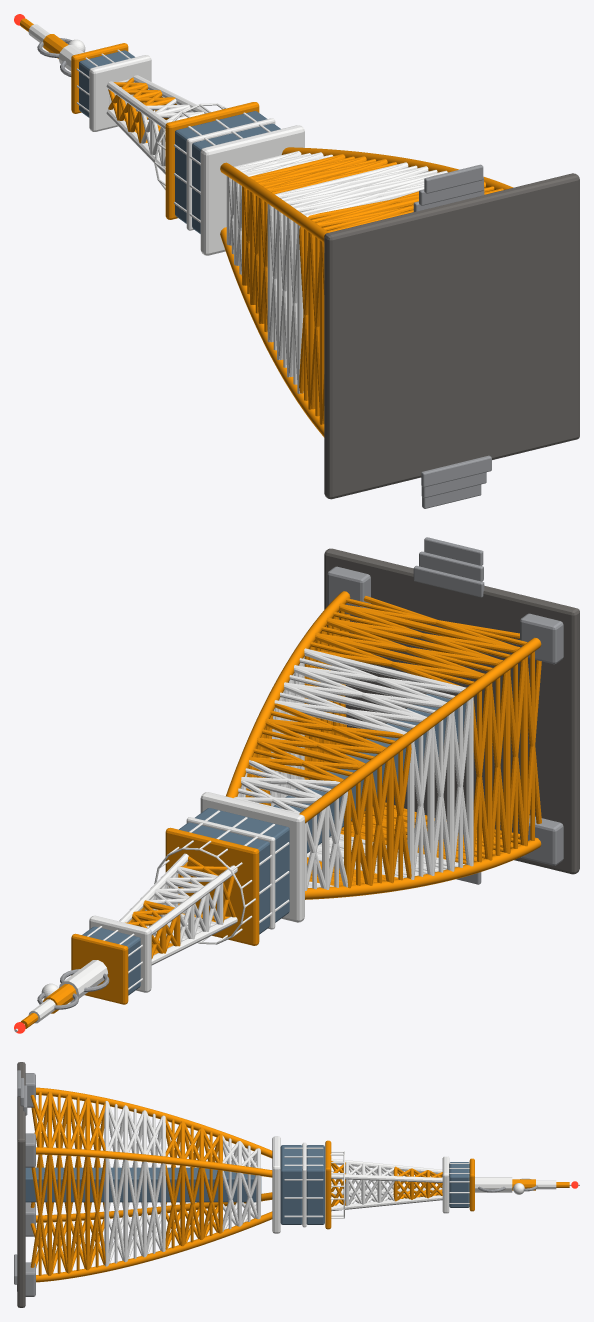
Rendered from tokyo_tower.glb.
The picture shows the model from 3 angles, top to bottom: view 1: azimuth 30°, elevation 25°; view 2: azimuth 150°, elevation 25°; view 3: azimuth 270°, elevation 25°; orthographic projection. The views are drawn at different scales.
Visible parts, largest first — view 1: Base, Deck1Slab, Deck2Slab, Deck1GlassHi, Deck1Roof, Leg, Leg.001, Leg.003, Deck1GlassLo, Step.006, Deck1Band, Step.002 (+10 smaller); view 2: Base, Deck1Roof, Leg.001, Deck1Slab, Leg, Leg.003, Deck2Roof, Deck1GlassLo, ElevCore, Deck1GlassHi, Foot.001, Foot (+67 smaller); view 3: ElevCore, Base, Leg.003, Leg.002, Deck1GlassLo, Leg.001, Deck1GlassHi, Leg, Deck1Slab, Deck2Glass, Cylinder.312, Deck1Roof (+34 smaller).
Boxes of the visible parts, x1,y1,x2,y2 form: Base: [324, 173, 579, 499]; Deck1Slab: [200, 125, 304, 255]; Deck2Slab: [89, 55, 151, 131]; Deck1GlassHi: [175, 111, 267, 223]; Deck1Roof: [165, 102, 259, 219]; Leg: [220, 227, 324, 437]; Leg.001: [220, 162, 328, 242]; Leg.003: [281, 147, 512, 189]; Deck1GlassLo: [192, 123, 280, 233]; Step.006: [421, 455, 491, 487]; Deck1Band: [186, 118, 275, 230]; Step.002: [424, 164, 483, 193]; Base: [324, 548, 579, 874]; Deck1Roof: [165, 827, 259, 945]; Leg.001: [299, 637, 541, 823]; Deck1Slab: [200, 792, 304, 922]; Leg: [305, 837, 541, 899]; Leg.003: [226, 591, 350, 797]; Deck2Roof: [71, 933, 128, 1004]; Deck1GlassLo: [195, 808, 289, 922]; ElevCore: [273, 694, 465, 853]; Deck1GlassHi: [179, 822, 269, 934]; Foot.001: [520, 613, 563, 664]; Foot: [520, 815, 563, 865]; ElevCore: [25, 1167, 261, 1202]; Base: [17, 1062, 25, 1307]; Leg.003: [36, 1147, 272, 1177]; Leg.002: [36, 1211, 272, 1282]; Deck1GlassLo: [280, 1145, 302, 1224]; Leg.001: [36, 1087, 272, 1158]; Deck1GlassHi: [306, 1145, 324, 1224]; Leg: [36, 1192, 272, 1222]; Deck1Slab: [272, 1136, 280, 1233]; Deck2Glass: [449, 1162, 469, 1207]; Cylinder.312: [331, 1174, 442, 1182]; Deck1Roof: [325, 1140, 331, 1229].
Size of the model in its own units: 11 by 13.8 by 33.39.
